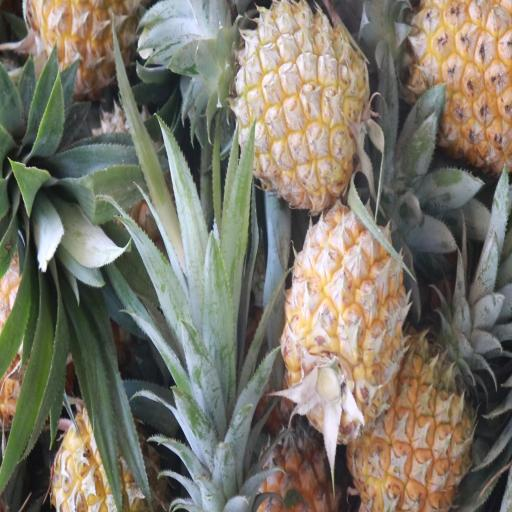------------------------------: (50, 400, 174, 512)
Pineapple - v8 v1: (282, 209, 400, 440), (231, 3, 366, 201), (353, 312, 469, 512), (393, 0, 512, 159)
